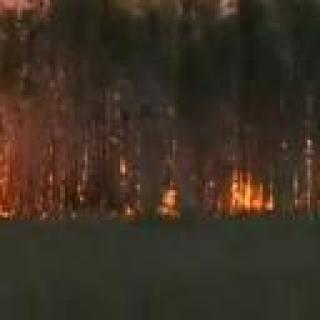fire: (115, 160, 178, 216), (220, 166, 278, 214), (0, 72, 1, 215)
